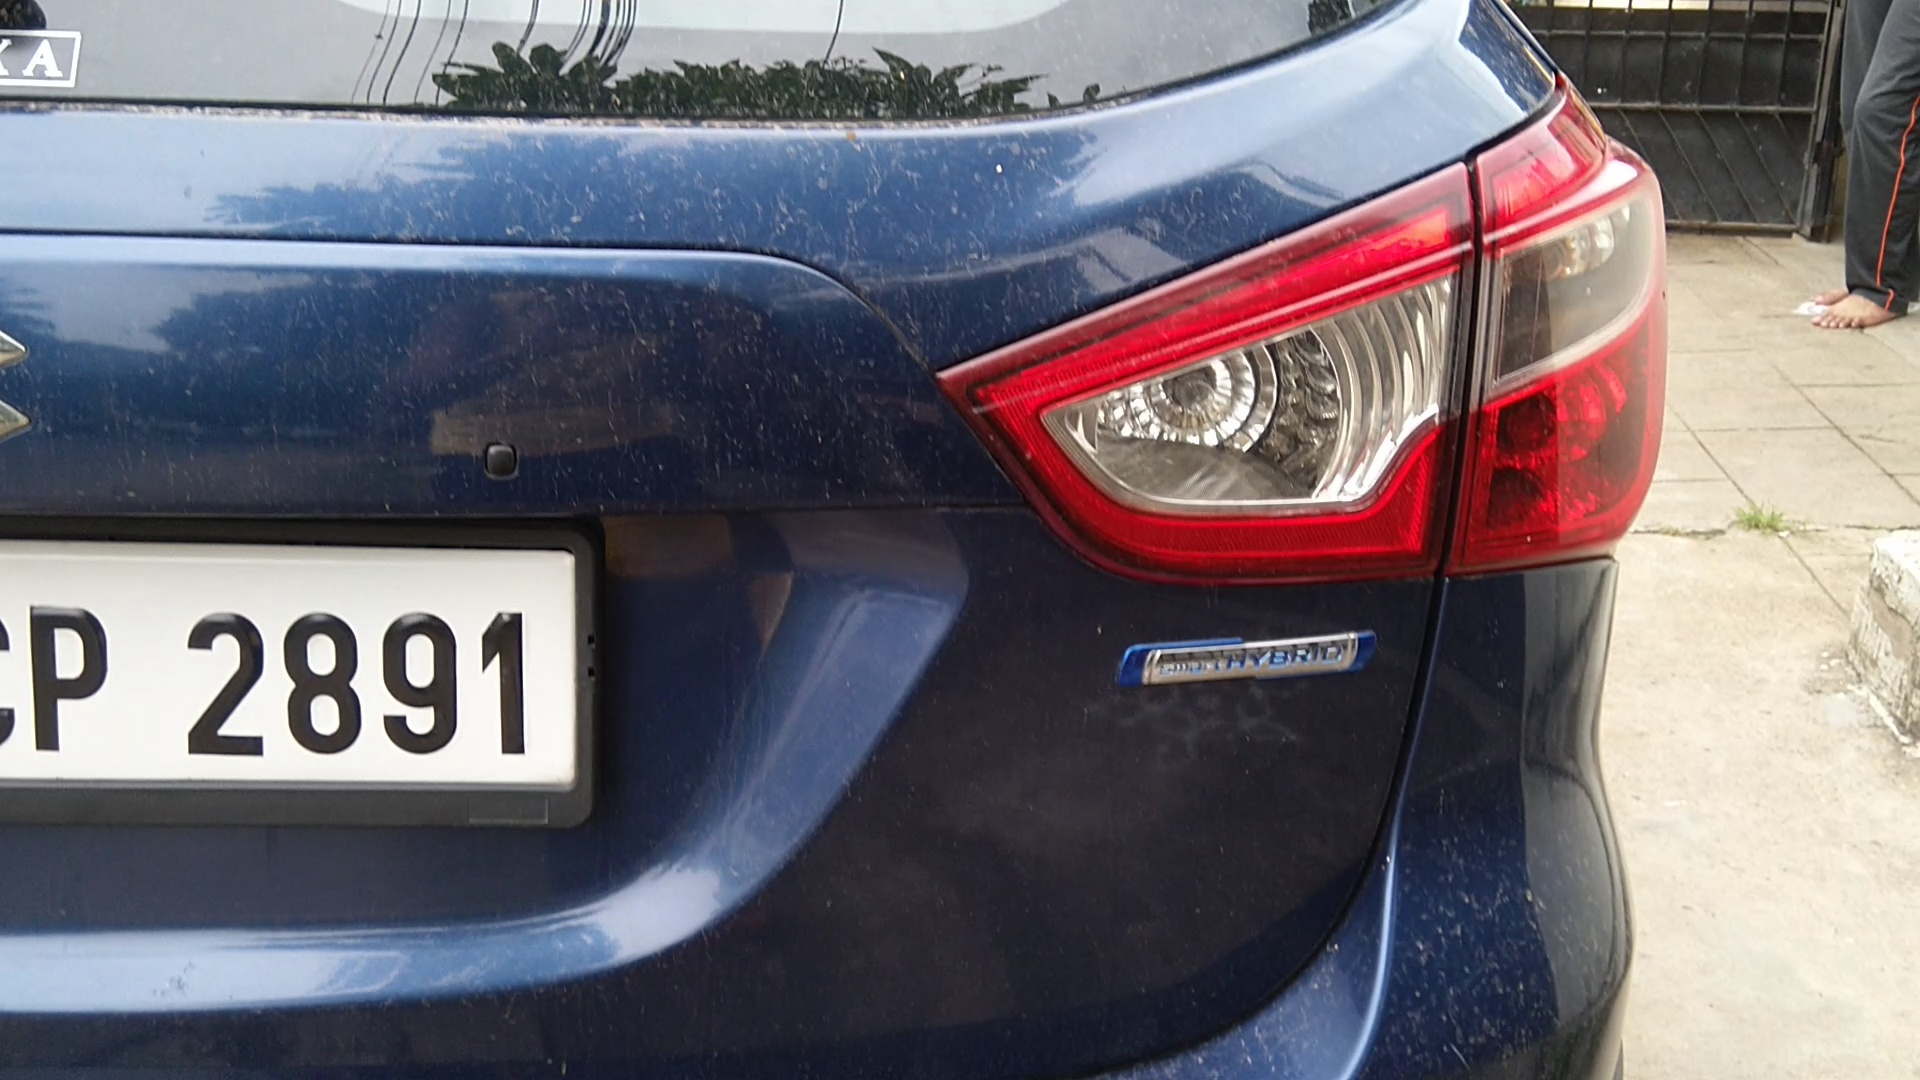shvs: (1095, 608, 1400, 756)
